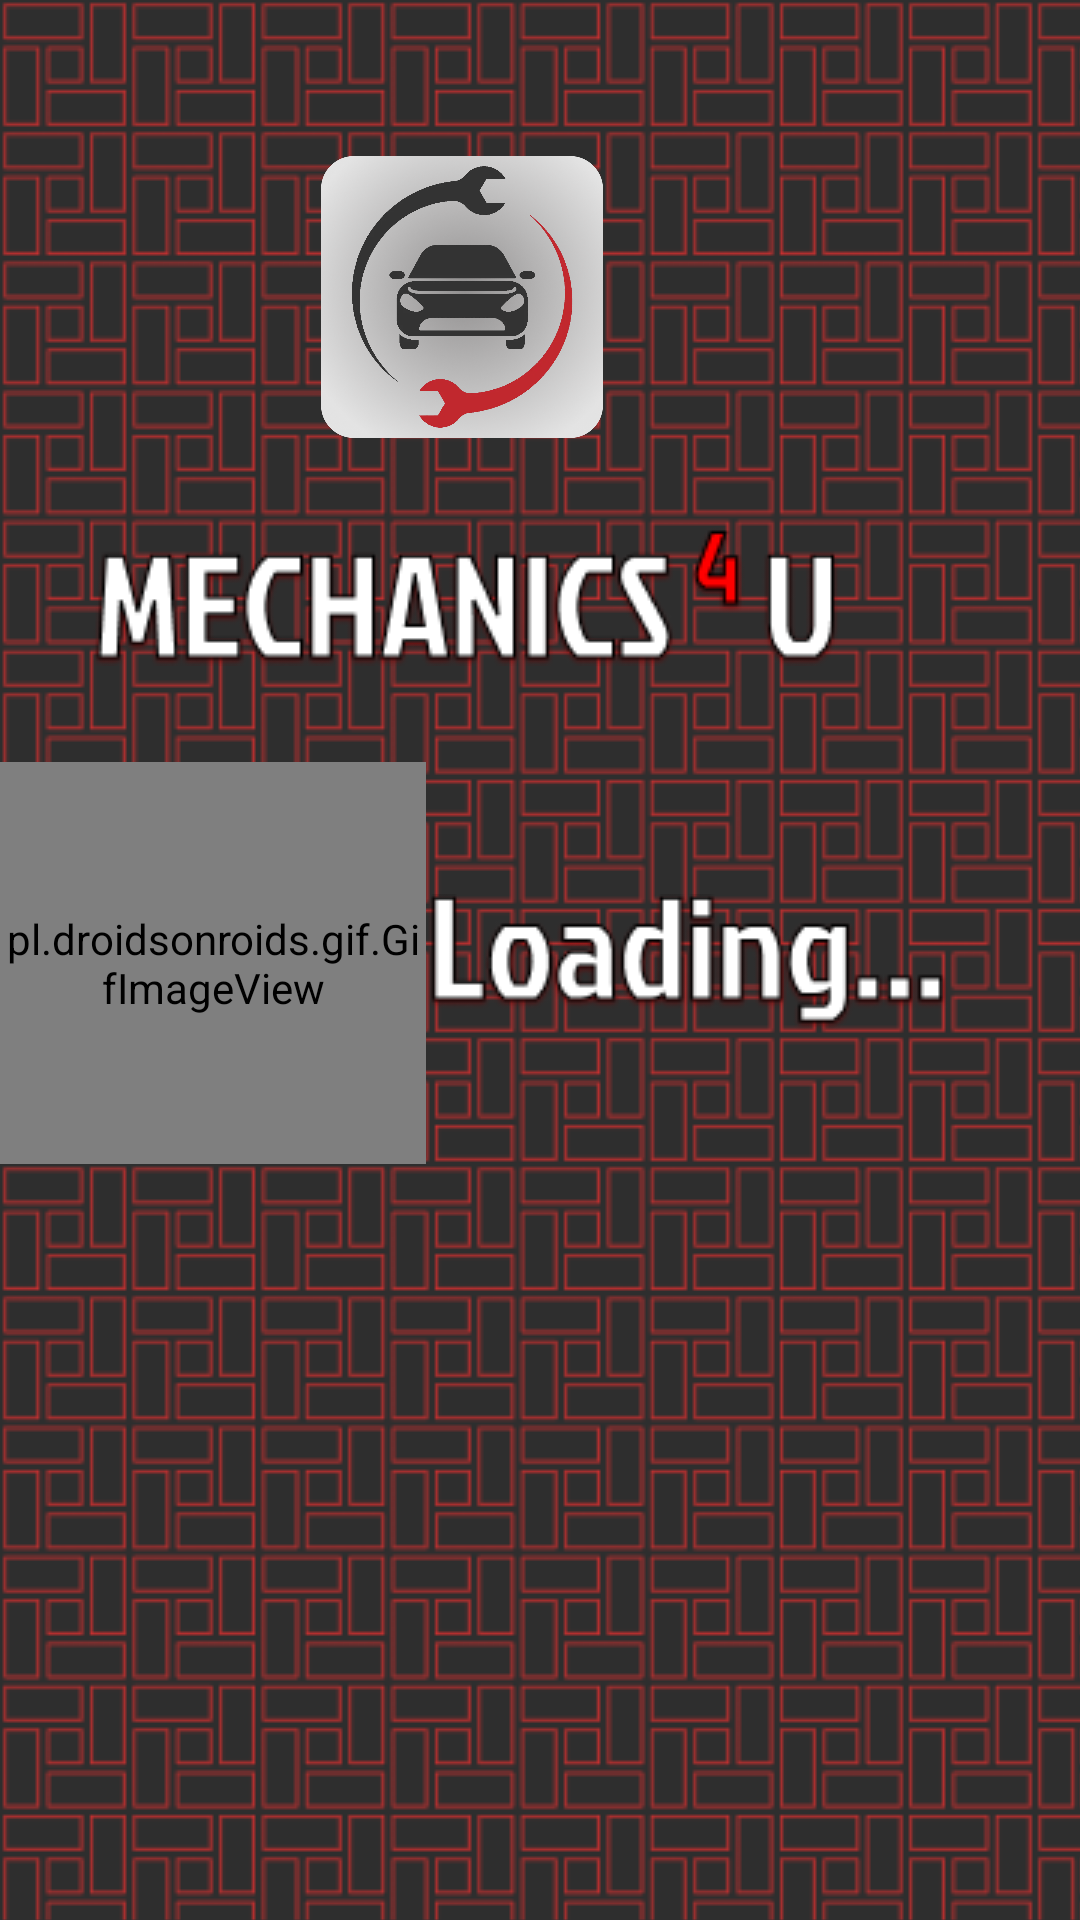

Where icons sit on this 1080w x 1920h app screen, as (x1, y1, x2, y2):
thumbnail: (312, 156, 612, 438)
